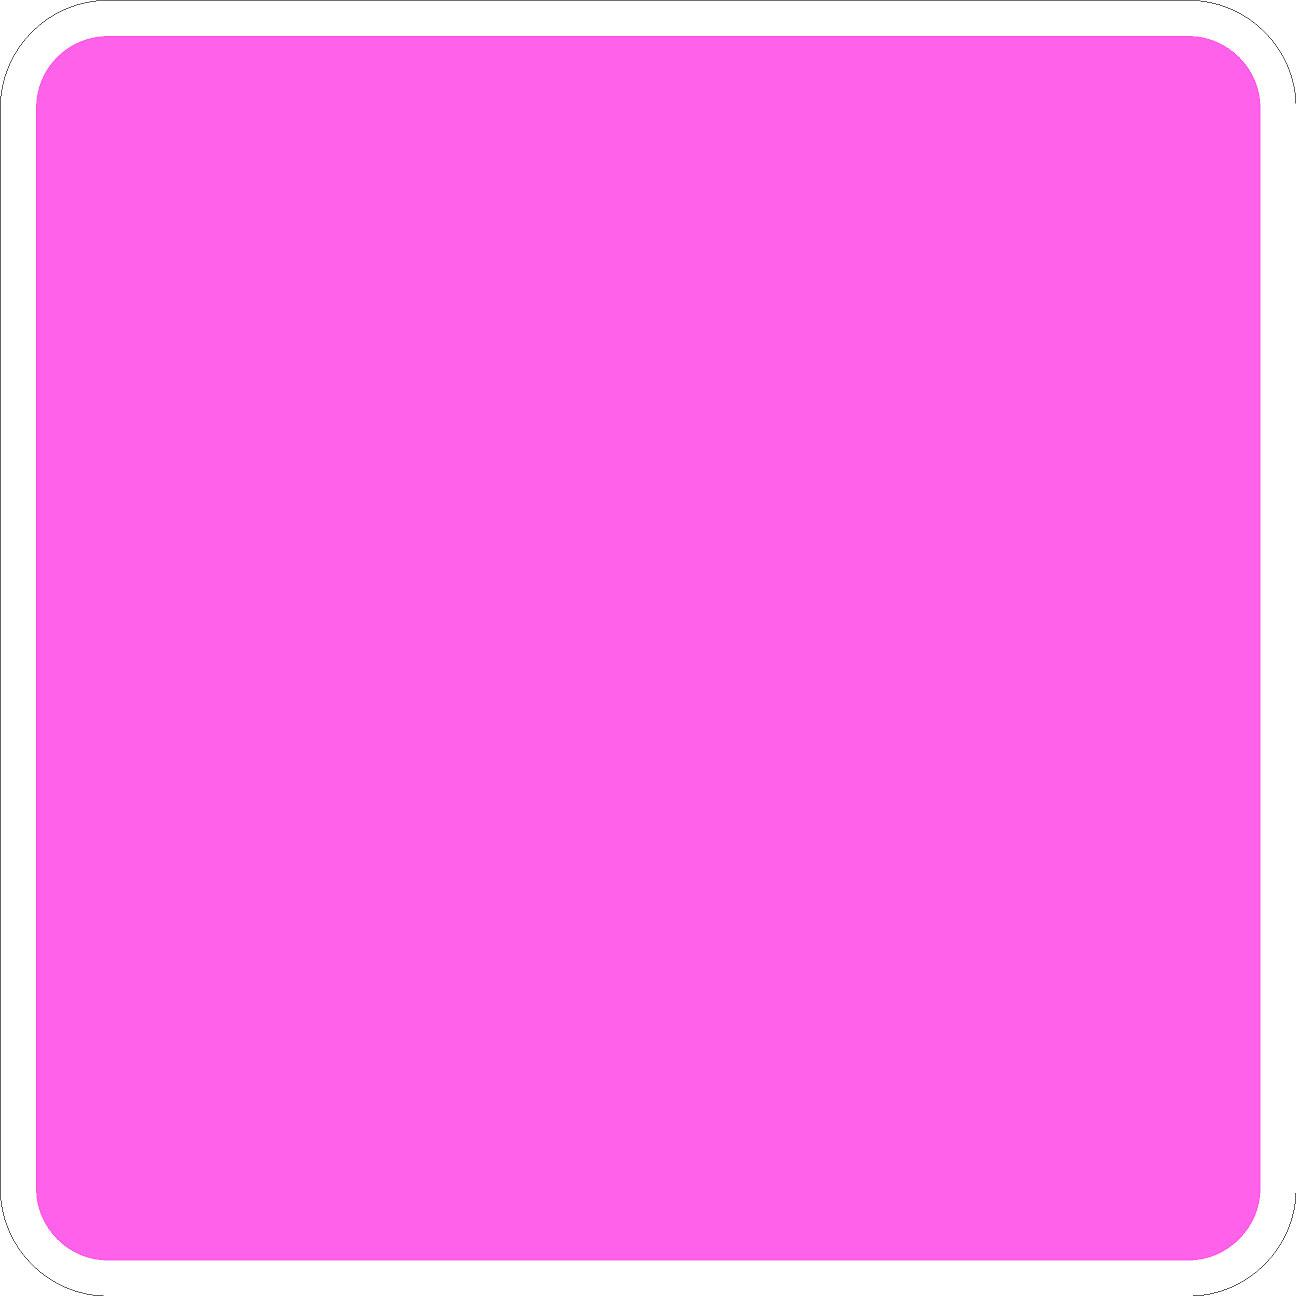pink_zone: (13, 24, 1287, 1277)
